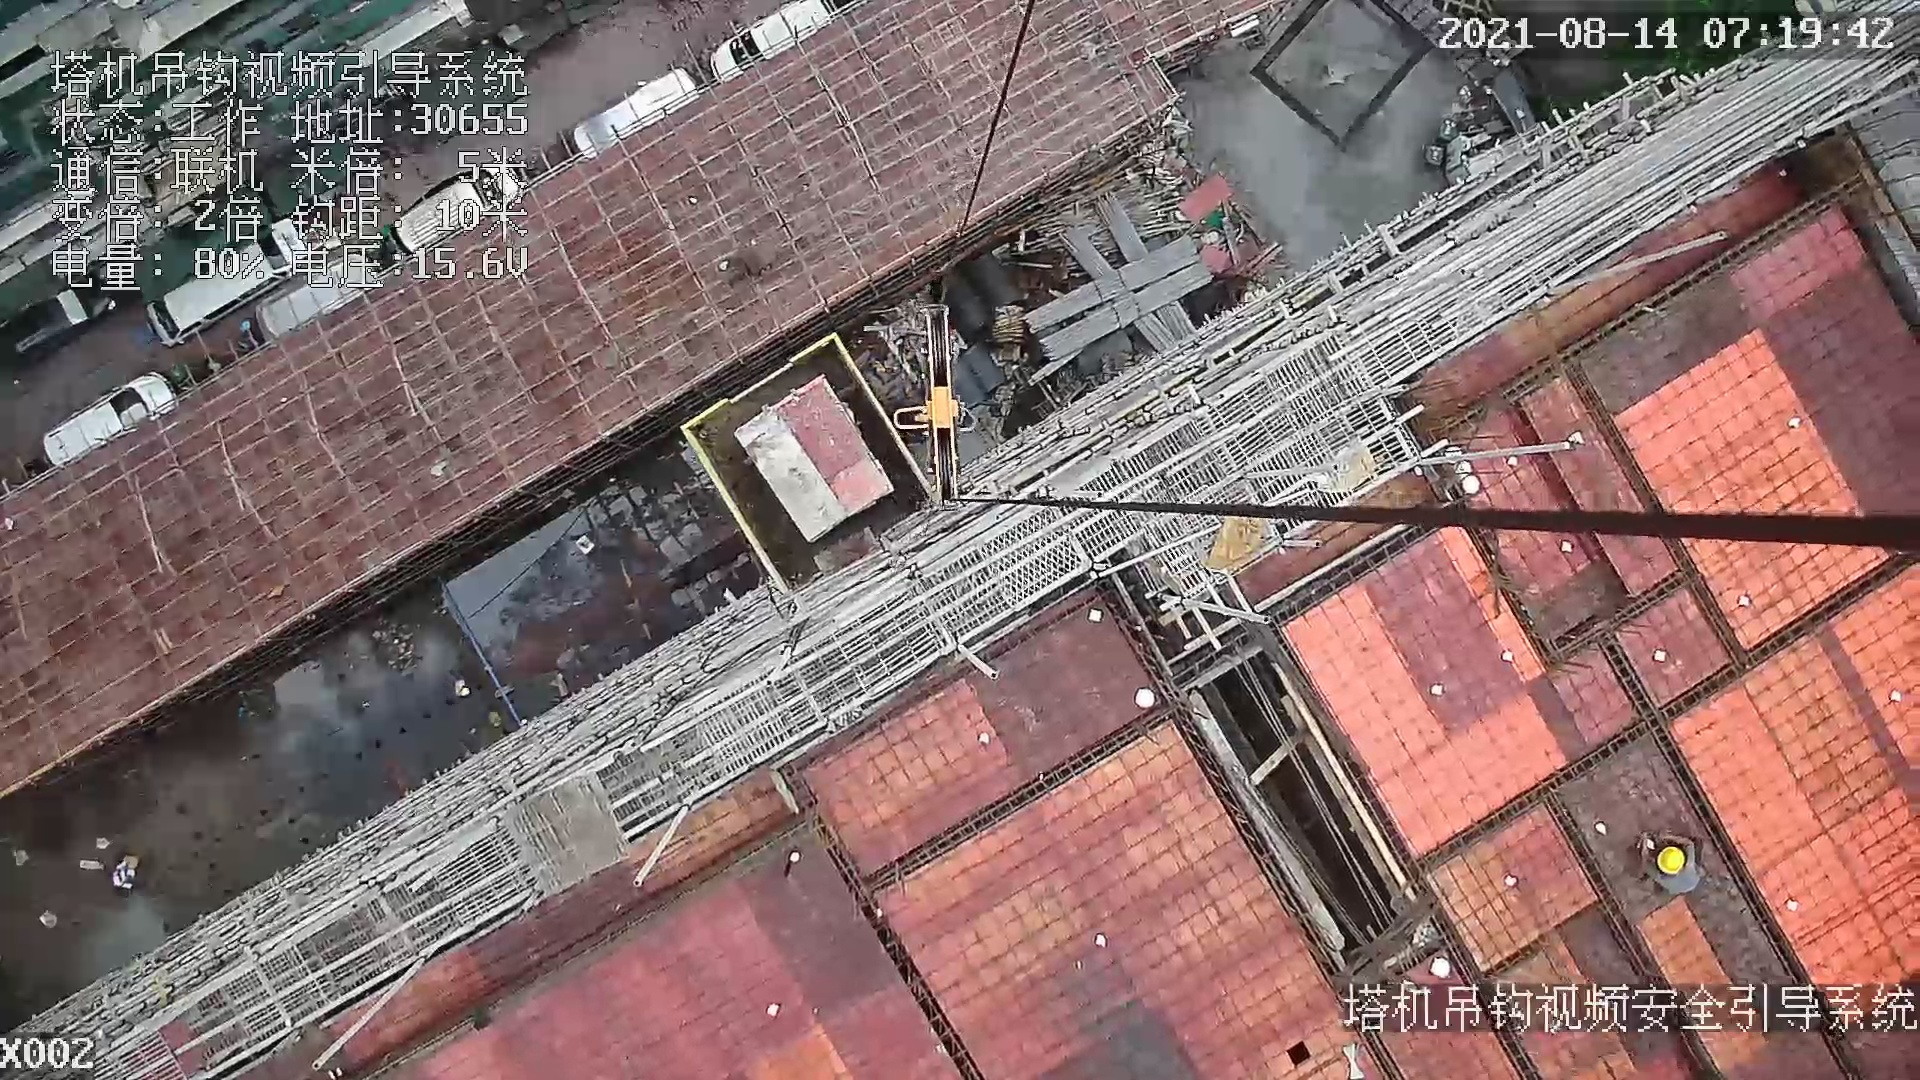helmet: (1655, 843, 1689, 879)
hook: (891, 299, 969, 512)
person: (1632, 830, 1708, 894)
